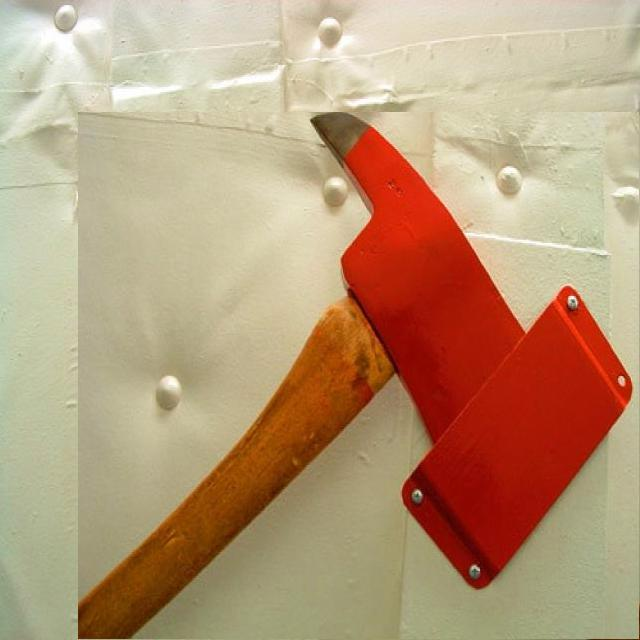Axe: (79, 113, 639, 639)
